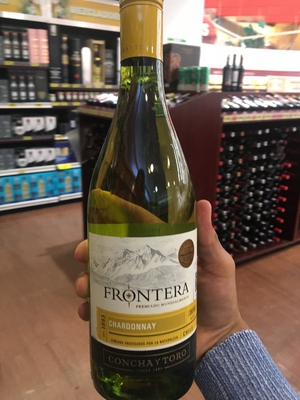frontera chardonnay: (83, 7, 210, 398)
